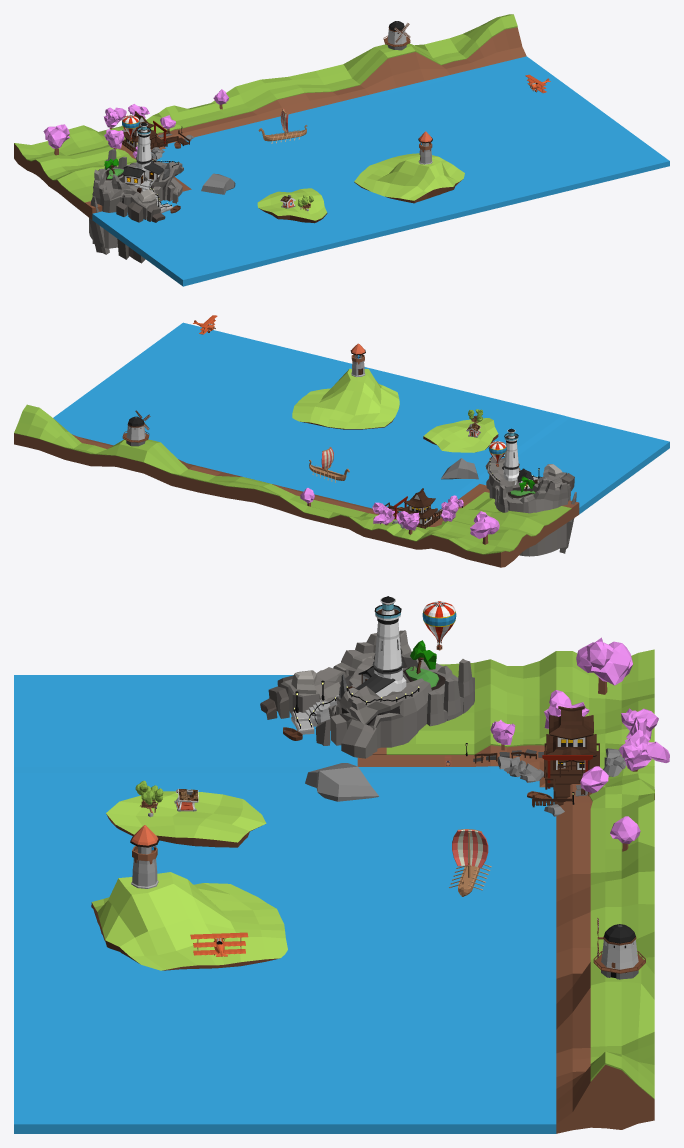
The model's file is myworld.glb.
3 renders of one model, top to bottom at view 1: azimuth 30°, elevation 25°; view 2: azimuth 150°, elevation 25°; view 3: azimuth 270°, elevation 25°, orthographic. The views are drawn at different scales.
Parts seen in each view (by area): view 1: Japanesehouse, Cube, Cube.009, Cube.005, Windmill; view 2: Japanesehouse, Cube, Cube.009, Cube.005, Windmill, Cube.006; view 3: Japanesehouse, Cube, Cube.009, Cube.005, Windmill, Cube.006, Sail, HotAirBaloon, plane.
Part boxes in pixels (x1,y1,x2,y2): Japanesehouse: (14, 14, 669, 286); Cube: (89, 122, 183, 263); Cube.009: (354, 153, 464, 203); Cube.005: (257, 188, 327, 223); Windmill: (383, 21, 410, 50); Japanesehouse: (14, 322, 669, 567); Cube: (485, 428, 576, 556); Cube.009: (292, 368, 399, 429); Cube.005: (423, 409, 498, 452); Windmill: (122, 416, 149, 446); Cube.006: (350, 343, 365, 377); Japanesehouse: (14, 637, 669, 1133); Cube: (260, 596, 474, 758); Cube.009: (91, 872, 287, 970); Cube.005: (106, 780, 266, 847); Windmill: (593, 924, 645, 979); Cube.006: (130, 825, 159, 888); Sail: (452, 829, 488, 867); HotAirBaloon: (422, 601, 456, 650); plane: (190, 932, 248, 956).
Size of the model in its own units: 254 by 57.36 by 157.
17 materials, 8 textured.
